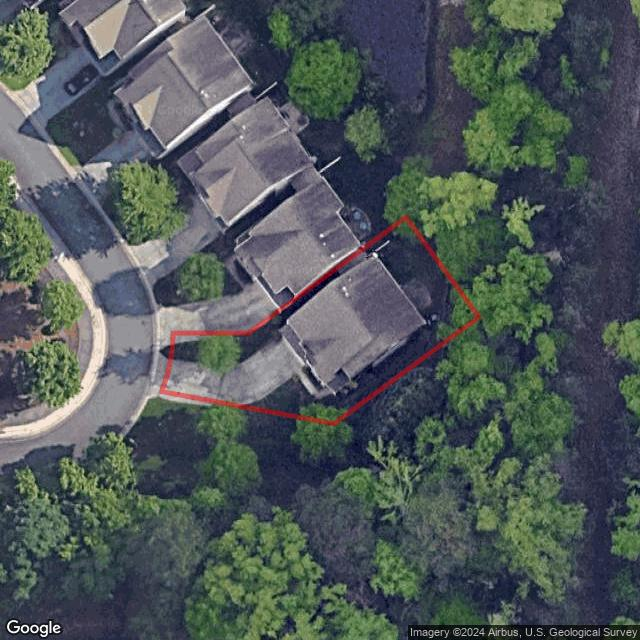Driveway: (162, 332, 307, 406)
Extra-Driveway: (147, 352, 237, 406)
Extra-Lawn: (119, 397, 216, 463), (158, 345, 174, 360)
House: (280, 252, 429, 397)
Lawn: (160, 218, 480, 425)
Other: (402, 277, 434, 311), (171, 332, 239, 345)
Sidewalk: (295, 372, 332, 399)
